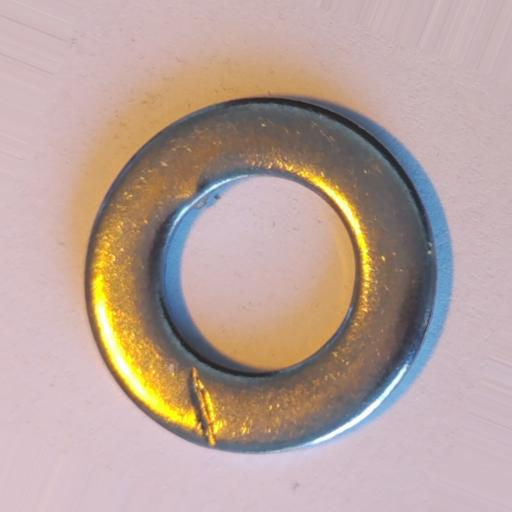scratch: (188, 364, 220, 446)
